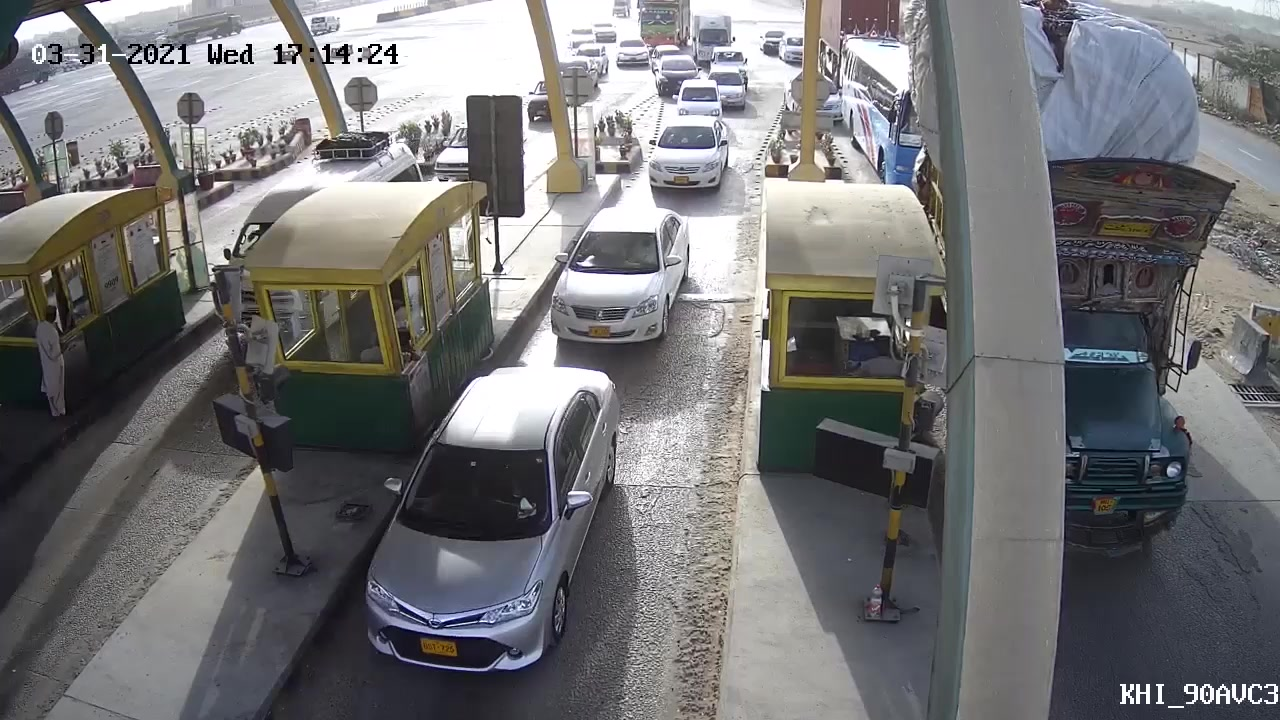F1: (344, 361, 630, 679), (540, 201, 697, 355)
